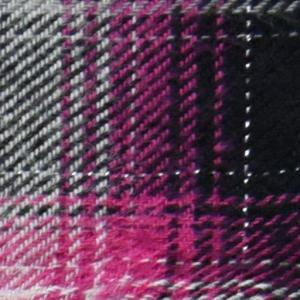Damage: (17, 187, 193, 300)
